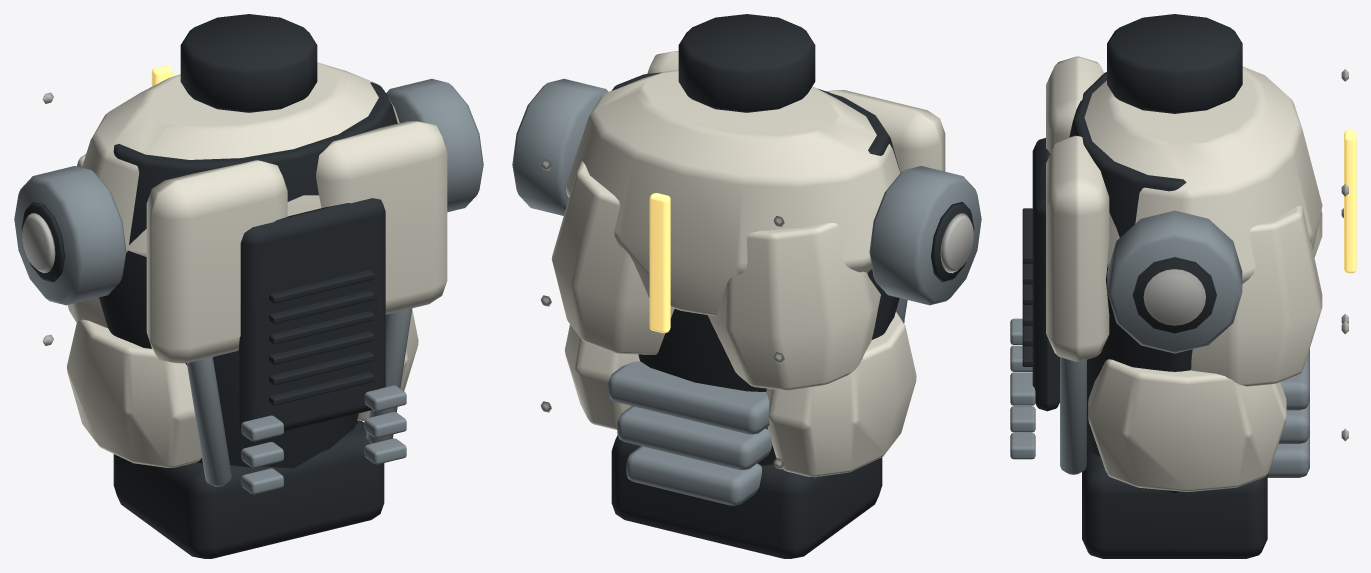
The model's file is torsos_05.glb.
3 renders of one model, left to right at view 1: azimuth 30°, elevation 25°; view 2: azimuth 150°, elevation 25°; view 3: azimuth 270°, elevation 25°, orthographic.
Parts seen in each view (by area): view 1: torsos_05_Geometry; view 2: torsos_05_Geometry; view 3: torsos_05_Geometry.
Boxes of the visible parts, <box> form: torsos_05_Geometry: <box>14,14,483,558</box>; torsos_05_Geometry: <box>512,14,981,558</box>; torsos_05_Geometry: <box>1010,14,1356,558</box>.
Size of the model in its own units: 0.592 by 0.625 by 0.4105.
